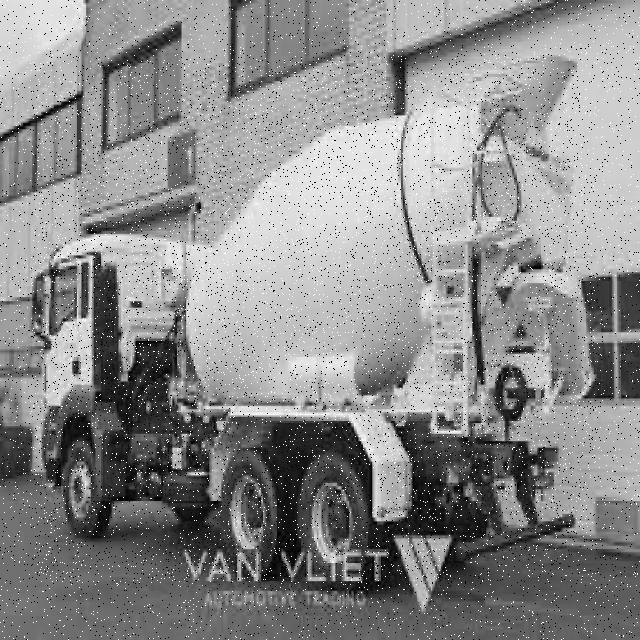Concrete Mixer: (31, 57, 596, 584)
